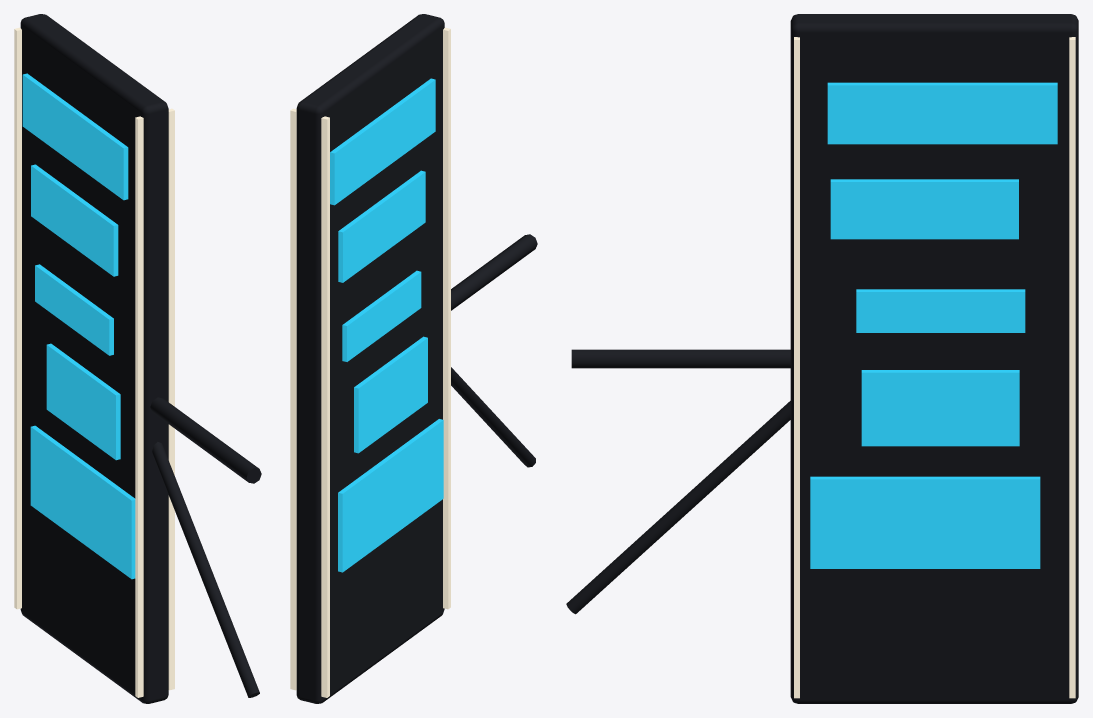
The model's file is neon_sign_b.glb.
3 views of the same model, side by side, from view 1: azimuth 30°, elevation 25°; view 2: azimuth 150°, elevation 25°; view 3: azimuth 270°, elevation 25° (orthographic). The views are drawn at different scales.
Parts seen in each view (by area): view 1: NeonSign; view 2: NeonSign; view 3: NeonSign.
Part boxes in pixels (box(x1,y1,x2,y2)): NeonSign: box(14, 14, 261, 703); NeonSign: box(290, 14, 537, 703); NeonSign: box(566, 14, 1078, 703).
Bounding box in the file's own units: 0.194 × 3 × 2.05.
